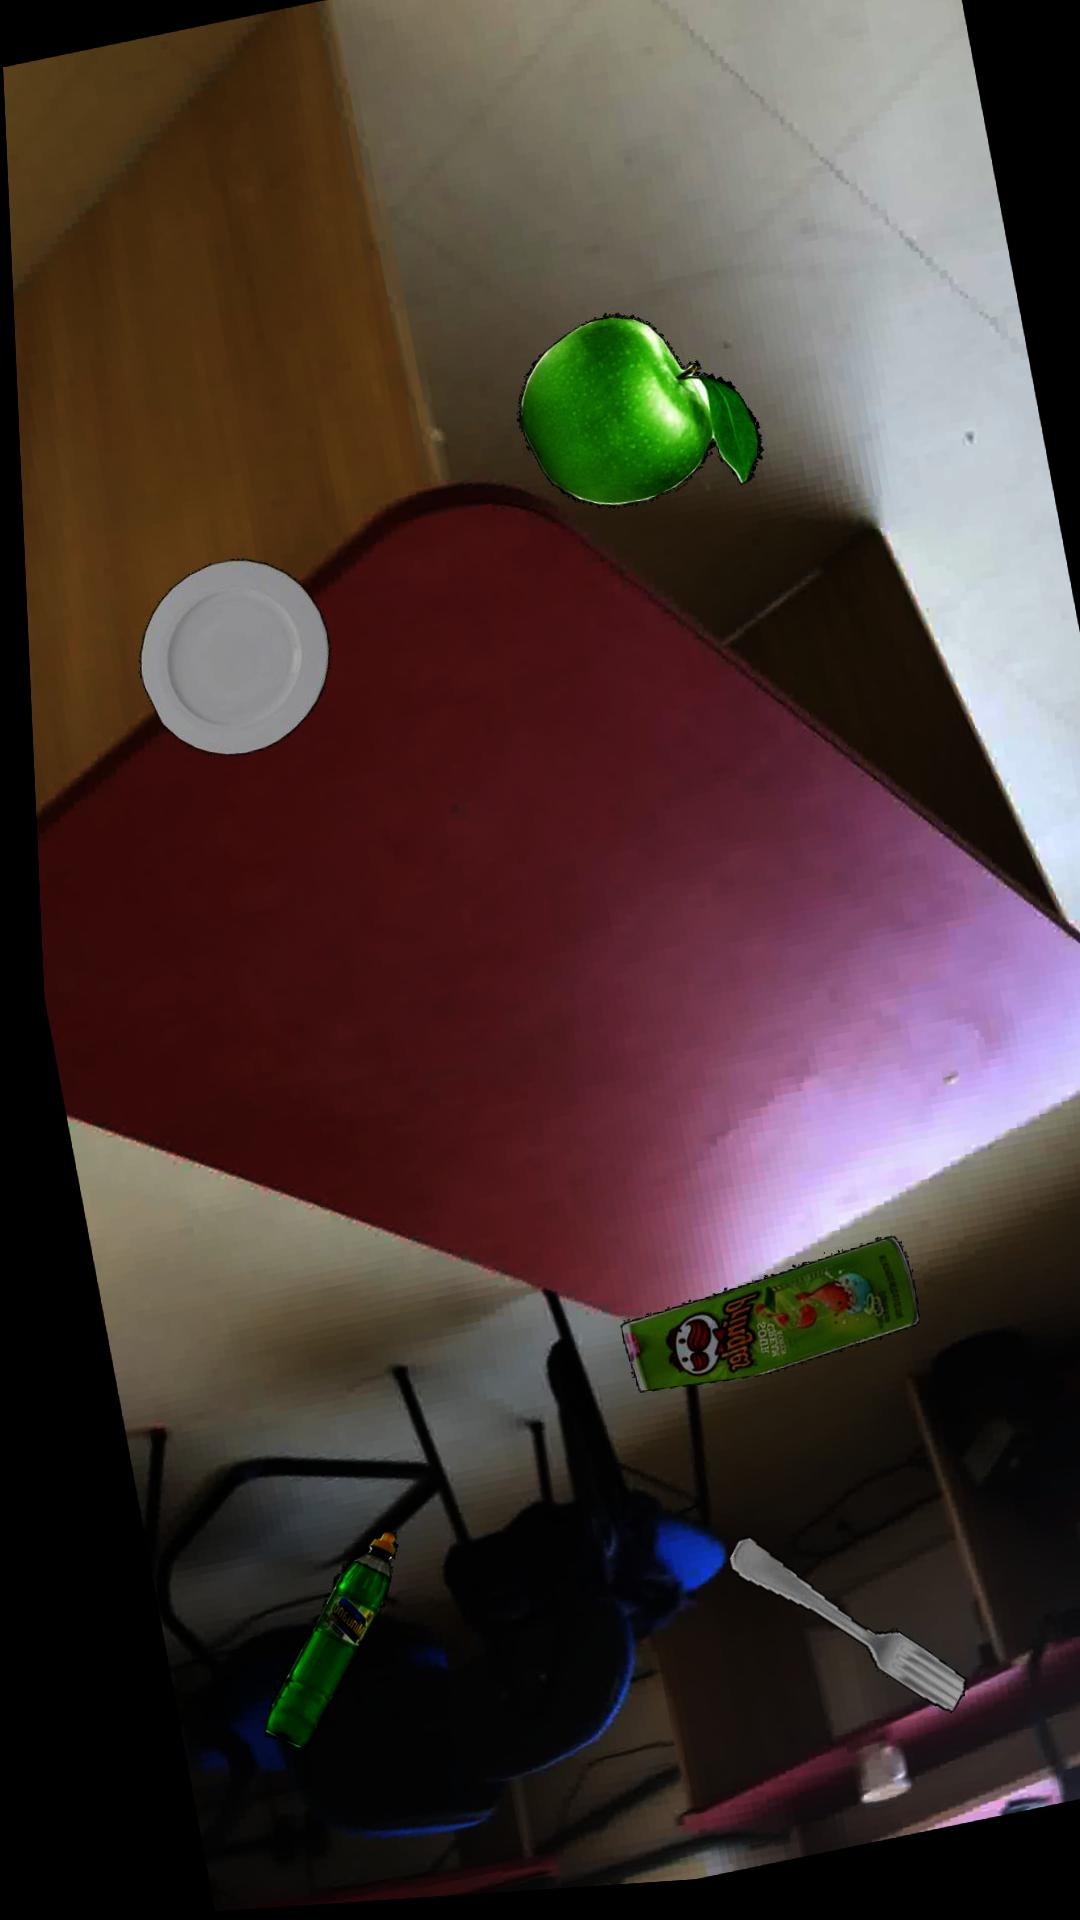cleaner: (247, 1536, 382, 1753)
fork: (712, 1547, 949, 1726)
green apple: (512, 323, 758, 517)
plate: (132, 563, 323, 760)
pringles: (607, 1249, 906, 1402)
